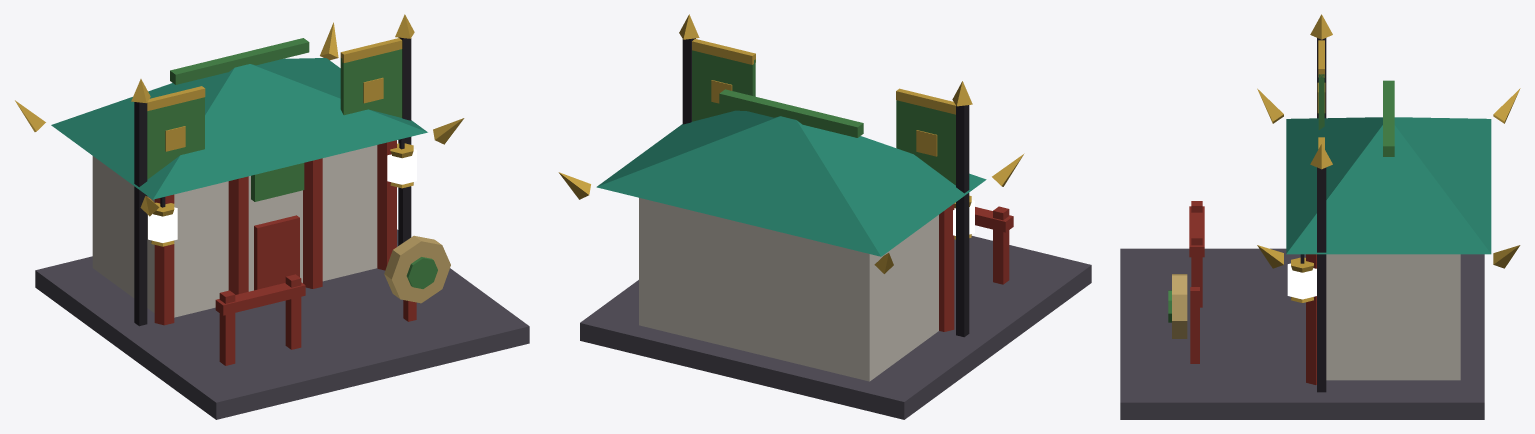
File: camp_ranger_t2.glb
3 views of the same model, side by side, from view 1: azimuth 30°, elevation 25°; view 2: azimuth 150°, elevation 25°; view 3: azimuth 270°, elevation 25° (orthographic). The views are drawn at different scales.
Parts seen in each view (by area): view 1: body, glow; view 2: body; view 3: body, glow.
Part boxes in pixels (x1=…): body: x1=15, y1=14, x2=529, y2=419; glow: x1=148, y1=149, x2=416, y2=242; body: x1=558, y1=14, x2=1091, y2=419; body: x1=1120, y1=14, x2=1520, y2=419; glow: x1=1287, y1=263, x2=1316, y2=299.
Size of the model in its own units: 1.94 by 1.52 by 2.09.
